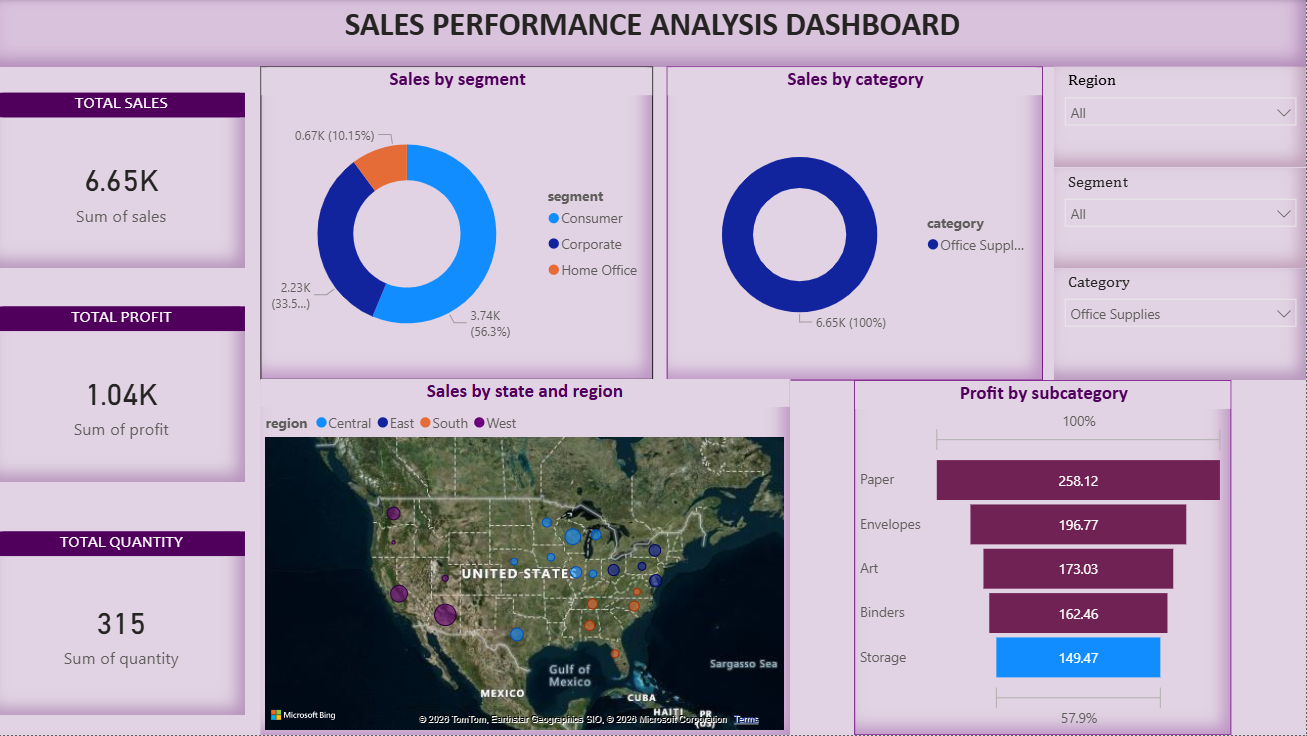

The page's visual inventory and layout, read from the dashboard file:
{"tool":"powerbi","page":{"name":"Dash_Board","canvas":[1280,720],"ordinal":0},"visuals":[{"type":"textbox","box":[0,0,1280.3,66],"z":0},{"type":"card","title":"TOTAL SALES","fields":{"Values":["Sum(sales.sales)"]},"box":[0,91.9,241.5,171.5],"z":1000},{"type":"card","title":"TOTAL PROFIT","fields":{"Values":["Sum(sales.profit)"]},"box":[0,300.5,241.5,171.5],"z":2000},{"type":"card","title":"TOTAL QUANTITY","fields":{"Values":["Sum(sales.quantity)"]},"box":[0,521.4,241.5,179.8],"z":3000},{"type":"slicer","fields":{"Values":["sales.category"]},"box":[1033.3,263.5,247,109.8],"z":4000},{"type":"slicer","fields":{"Values":["sales.region"]},"box":[1033.3,65.9,247,98.8],"z":5000},{"type":"slicer","fields":{"Values":["sales.segment"]},"box":[1033.3,164.7,247,98.8],"z":6000},{"type":"donutChart","title":"Sales by category","fields":{"Category":["sales.category"],"Y":["Sum(sales.sales)"]},"box":[654.5,65.9,367.8,307.4],"z":7000},{"type":"donutChart","title":"Sales by segment","fields":{"Y":["Sum(sales.sales)"],"Category":["sales.segment"]},"box":[256.6,65.9,384.2,306],"z":8000},{"type":"map","title":"Sales by state and region","fields":{"Category":["sales.state"],"Size":["Sum(sales.sales)"],"Series":["sales.region"]},"box":[256.8,371.7,517.3,348.5],"z":9000},{"type":"funnel","title":"Profit by subcategory","fields":{"Category":["sales.subcategory"],"Y":["Sum(sales.profit)"]},"box":[837.1,373.2,369.1,347.2],"z":10000}]}

Visuals, with their boxes in screenshot pixels (x1, y1, x2, y2), scaled from the page's 1280x720 canvas onto the 1307x736 screenshot:
textbox: bbox=(0, 0, 1306, 67)
"TOTAL SALES" card: bbox=(0, 94, 247, 269)
"TOTAL PROFIT" card: bbox=(0, 307, 247, 482)
"TOTAL QUANTITY" card: bbox=(0, 533, 247, 717)
slicer - sales.category: bbox=(1055, 269, 1306, 382)
slicer - sales.region: bbox=(1055, 67, 1306, 168)
slicer - sales.segment: bbox=(1055, 168, 1306, 269)
"Sales by category" donutChart: bbox=(668, 67, 1044, 382)
"Sales by segment" donutChart: bbox=(262, 67, 654, 380)
"Sales by state and region" map: bbox=(262, 380, 790, 735)
"Profit by subcategory" funnel: bbox=(855, 381, 1232, 735)
